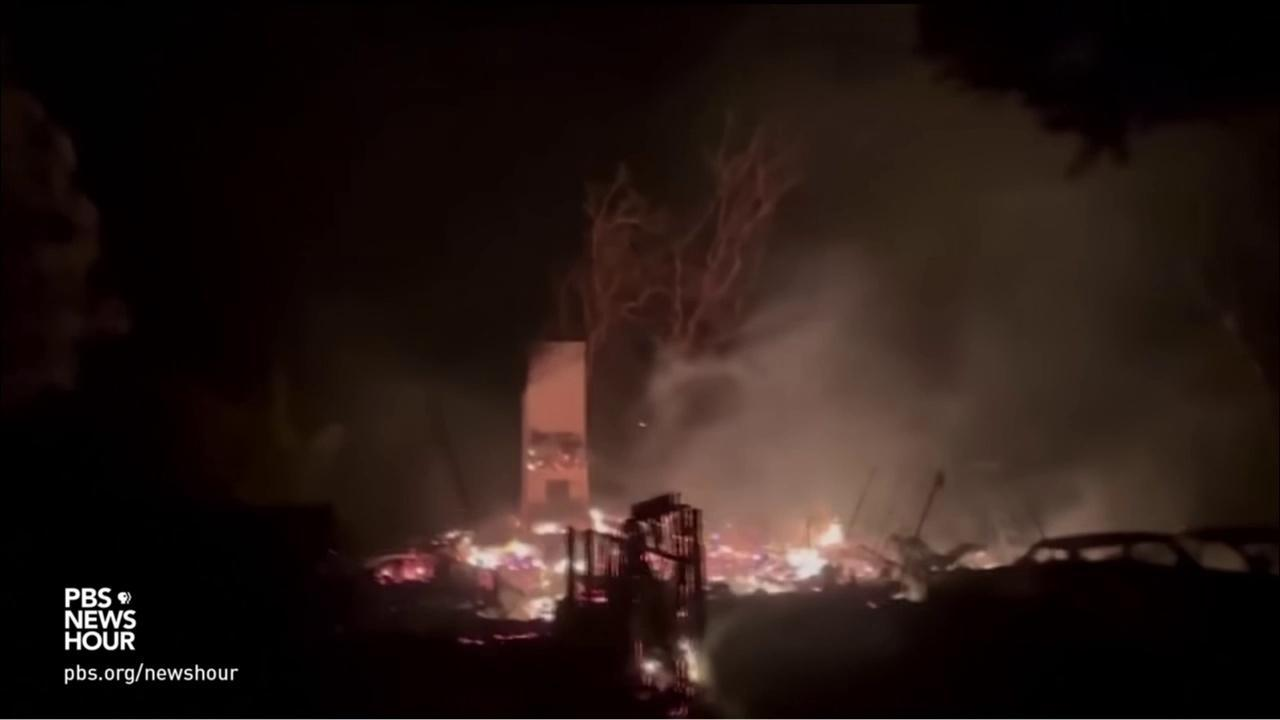fire: (432, 529, 547, 571), (372, 553, 436, 587), (703, 576, 798, 596), (784, 547, 829, 581), (675, 633, 702, 683), (588, 507, 625, 539), (814, 514, 845, 546), (523, 595, 557, 622), (555, 557, 588, 576), (529, 520, 568, 533), (638, 657, 664, 675), (493, 632, 540, 641), (458, 636, 486, 647), (591, 596, 608, 605)
smoke: (624, 2, 1279, 576), (179, 291, 521, 544)
